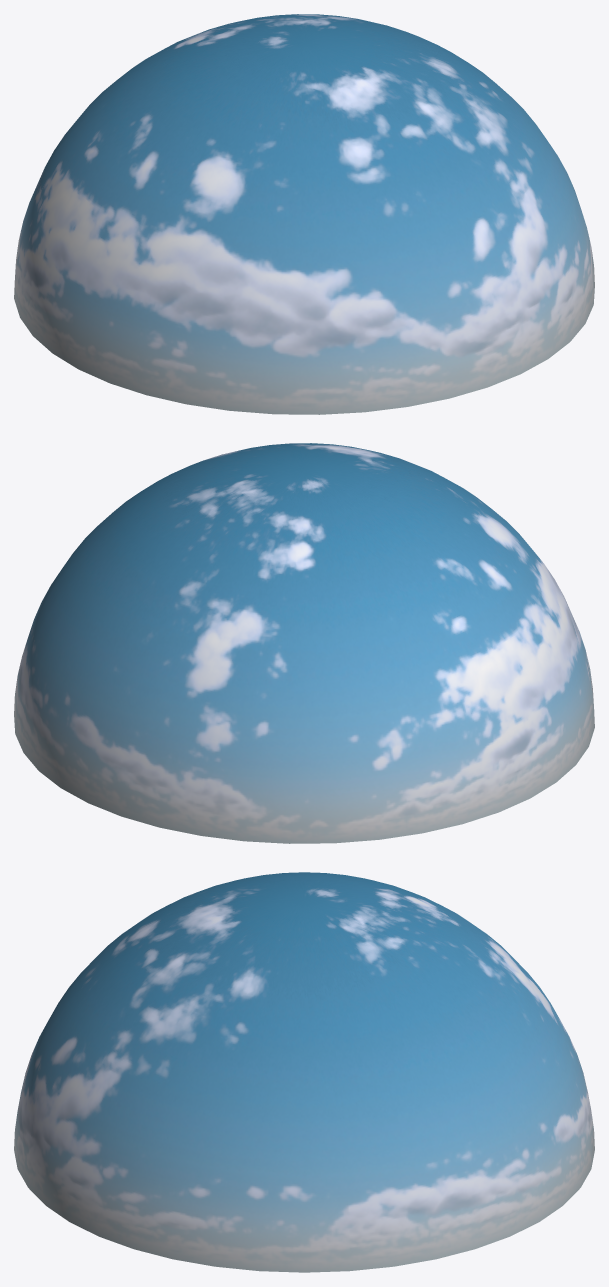
File: EP1_sky01.fbx
The picture shows the model from 3 angles, top to bottom: view 1: azimuth 30°, elevation 25°; view 2: azimuth 150°, elevation 25°; view 3: azimuth 270°, elevation 25°; orthographic projection.
Visible parts, largest first — view 1: sky; view 2: sky; view 3: sky.
Part boxes in pixels (box(x1,y1,x2,y2)): sky: box(14, 14, 594, 414); sky: box(14, 443, 594, 843); sky: box(14, 872, 594, 1272).
Size of the model in its own units: 800 by 378 by 800.
